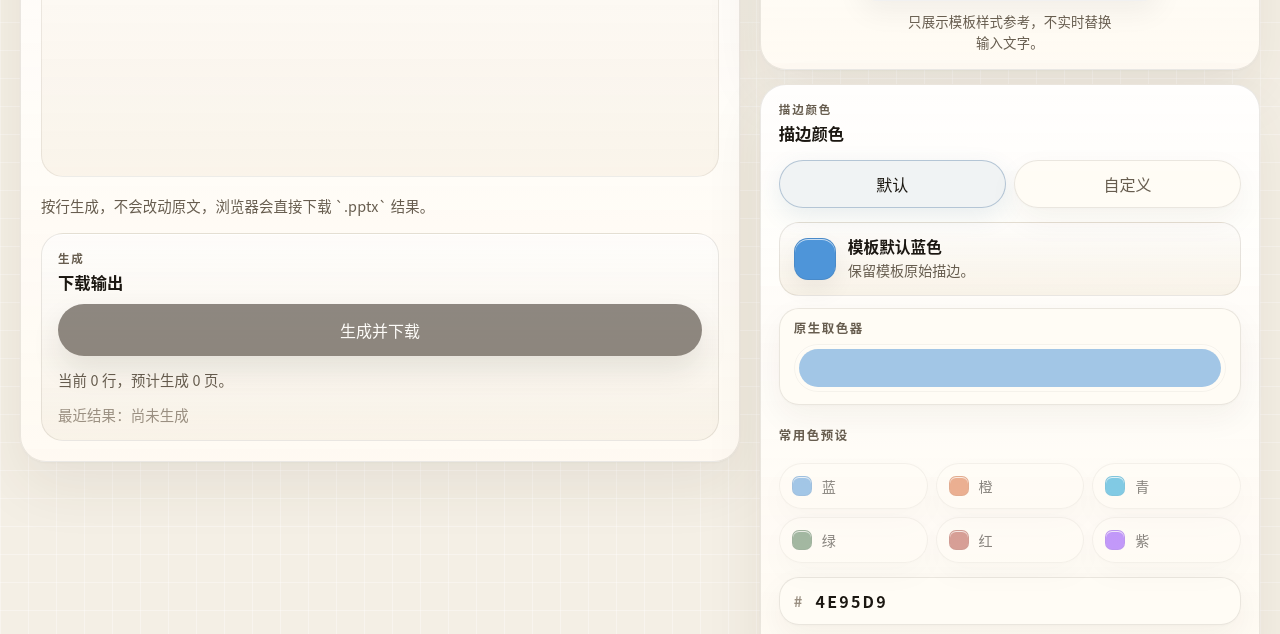
App › describes the custom accent as only covering the blue outline layer
The image size is (1280, 634).
(page scrolled)
Click the button "自定义": (1127,183) [1014,159,1241,207]
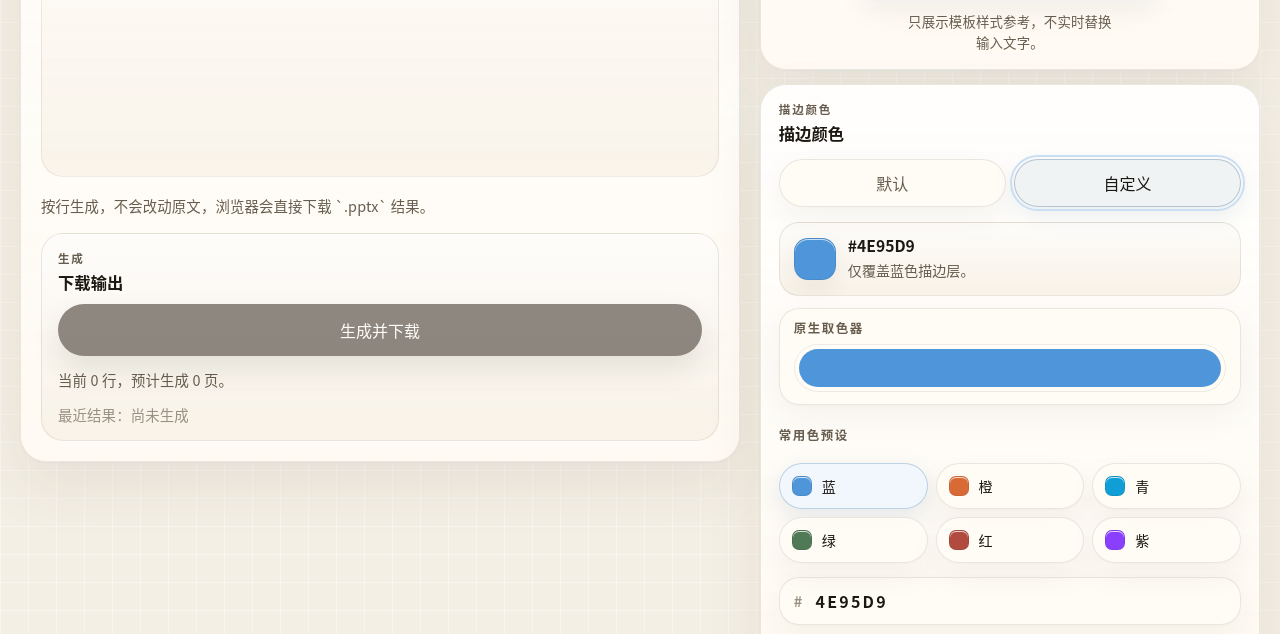
Check: the text "仅覆盖蓝色描边层。" is shown, box [848,260,974,281]
